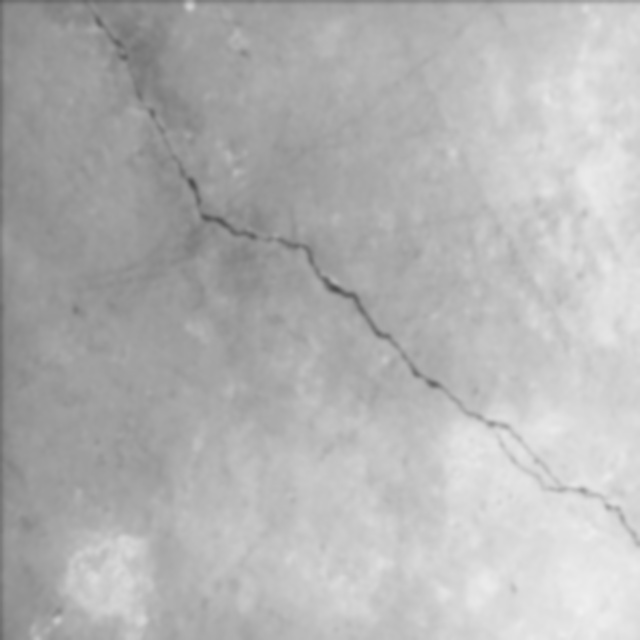SurfaceCrack: (6, 0, 640, 638)
